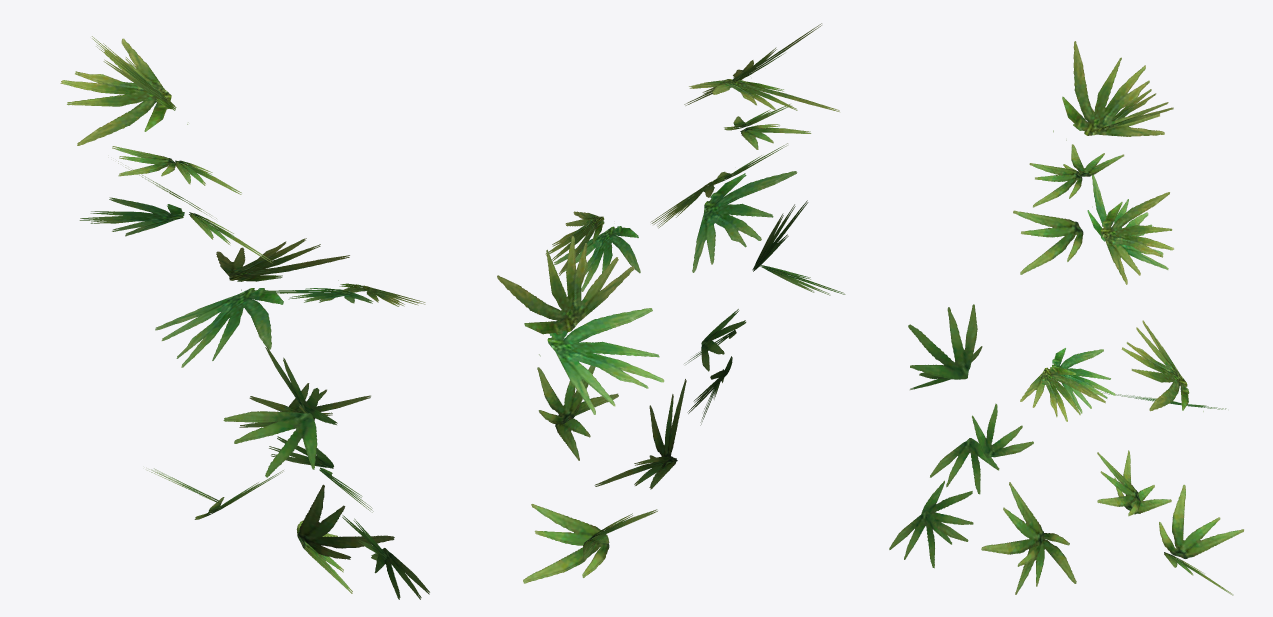
The model's file is Area_11_14.fbx.
3 views of the same model, side by side, from view 1: azimuth 30°, elevation 25°; view 2: azimuth 150°, elevation 25°; view 3: azimuth 270°, elevation 25° (orthographic). The views are drawn at different scales.
Visible parts, largest first — view 1: Area_11_14; view 2: Area_11_14; view 3: Area_11_14.
Boxes of the visible parts, box(x1,y1,x2,y2) form: Area_11_14: box(60, 36, 429, 599); Area_11_14: box(497, 23, 845, 583); Area_11_14: box(889, 41, 1243, 595).
Bounding box in the file's own units: 1141 × 1813 × 1239.
